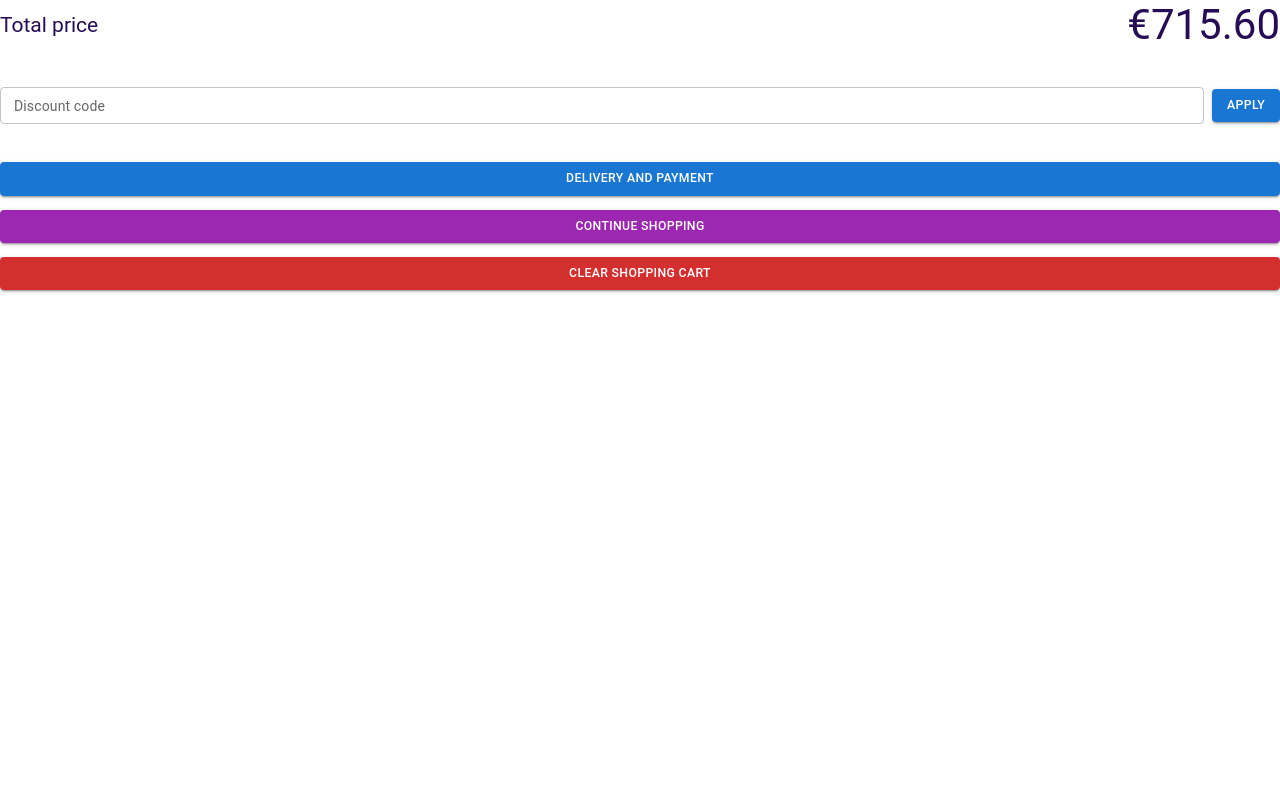
Test: CartSummary › handles clearing the shopping cart
Click the button "Clear Shopping Cart" at x=640, y=274, box [0,257,1279,290]
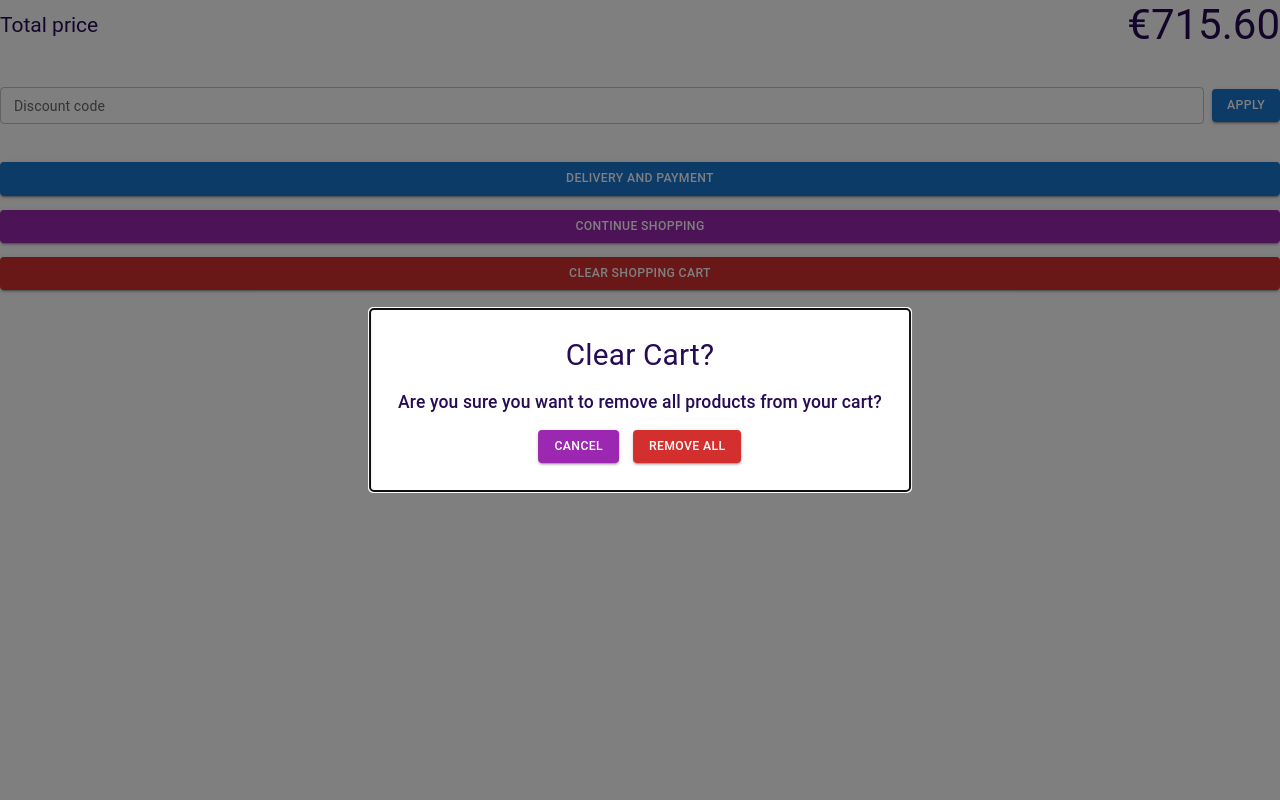
Expected: the heading "Clear Cart?" is shown, [566,337,714,372]
